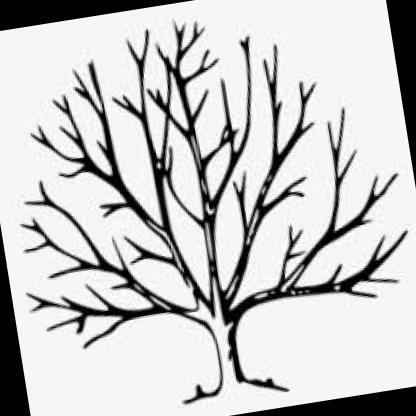trunk_straight: (208, 326, 248, 384)
